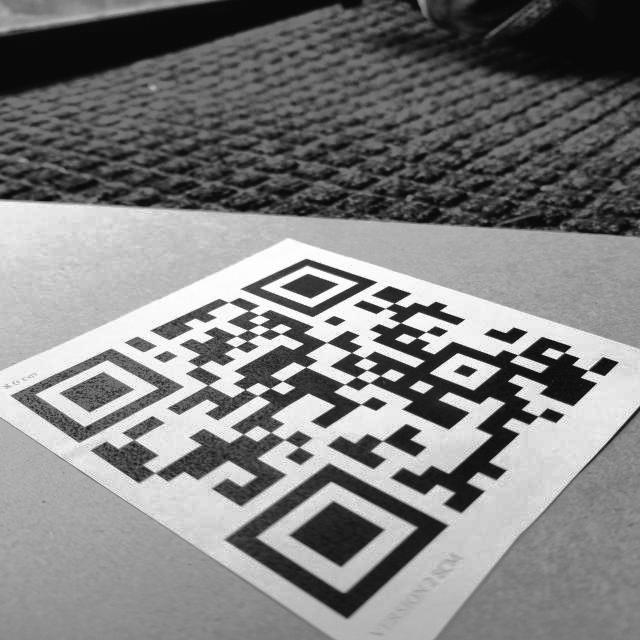qr_code: (4, 252, 630, 629)
